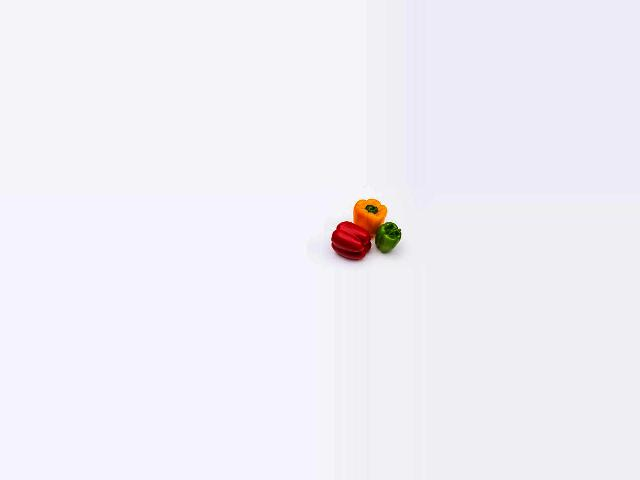bell_pepper: (374, 219, 408, 253)
